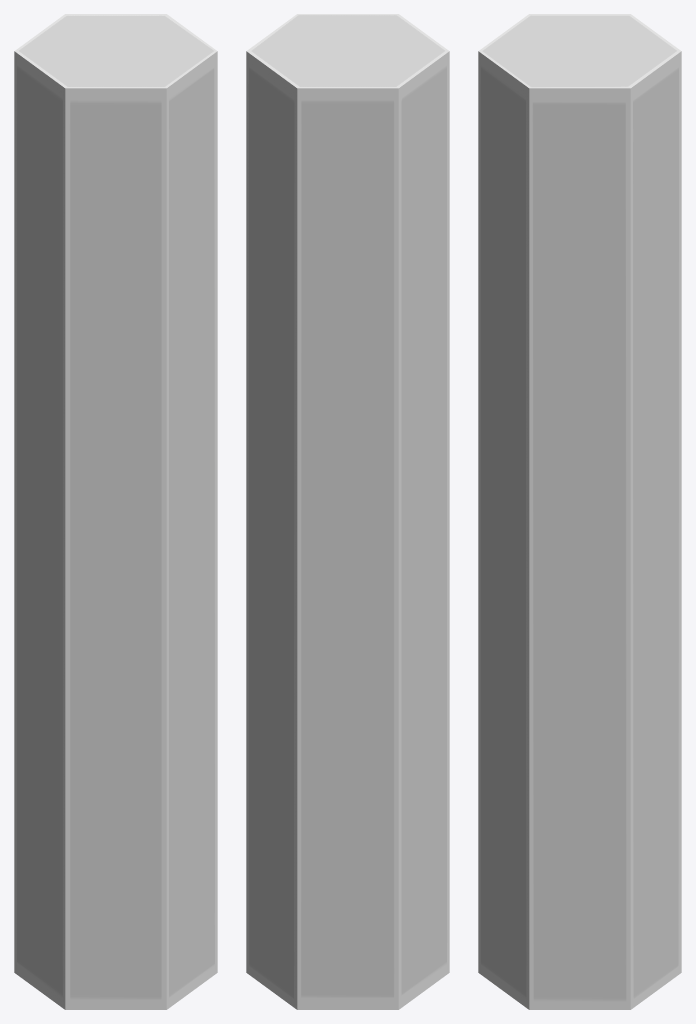
File: HexaSpire.fbx
3 renders of one model, left to right at view 1: azimuth 30°, elevation 25°; view 2: azimuth 150°, elevation 25°; view 3: azimuth 270°, elevation 25°, orthographic.
Parts seen in each view (by area): view 1: Cylinder; view 2: Cylinder; view 3: Cylinder.
Boxes of the visible parts, x1=… form: Cylinder: x1=14, y1=14, x2=217, y2=1009; Cylinder: x1=246, y1=14, x2=449, y2=1009; Cylinder: x1=478, y1=14, x2=681, y2=1009.
Bounding box in the file's own units: 173 × 1001 × 200.
